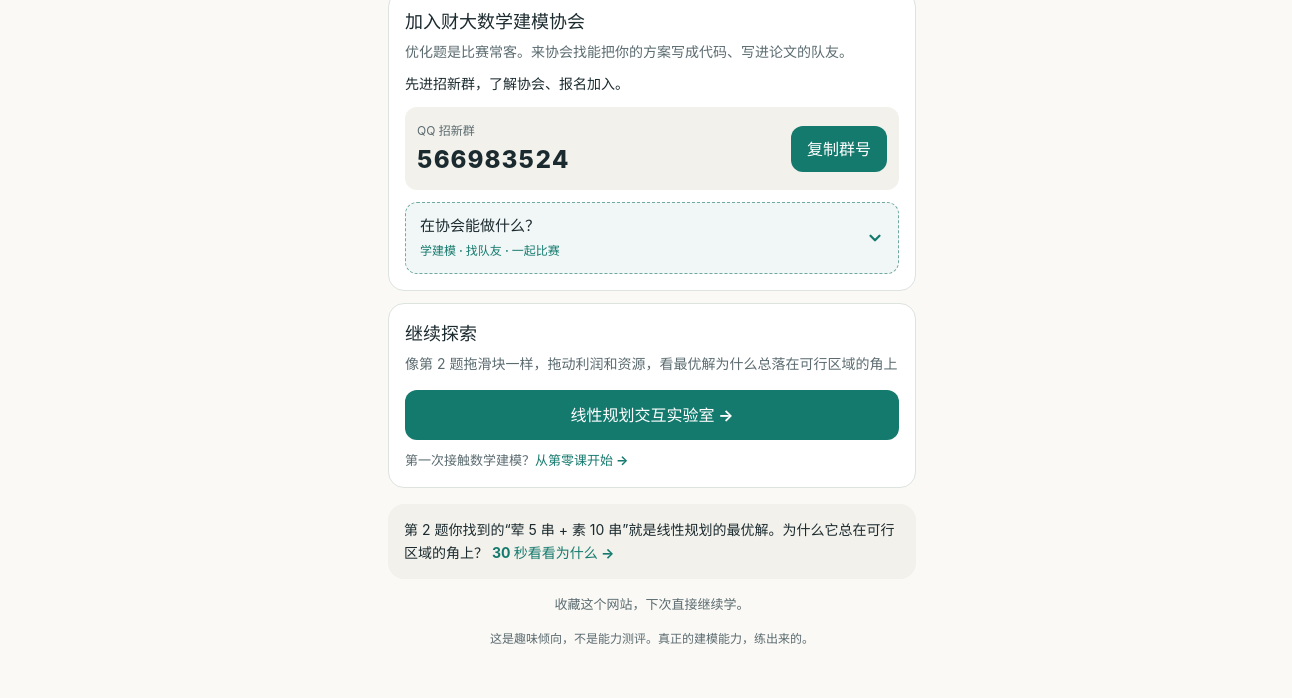
it: findable from everywhere › is offered on every game result as a quiet extra link, without replacing the recommendation
(page scrolled)
Expected: the element "从第零课开始 →" shows "线性规划交互实验室 →", [388,303,916,488]
Click the link "从第零课开始 →": (582, 460) [535,452,628,468]
(page scrolled)
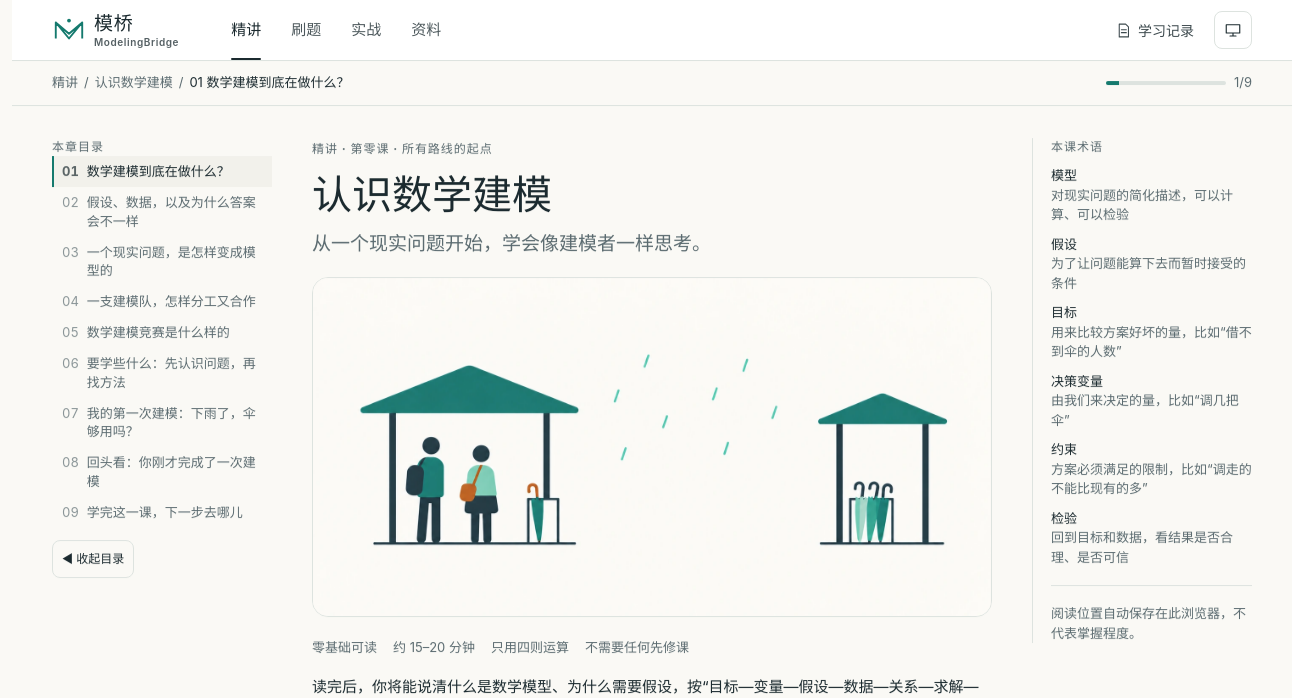
Result: the heading "认识数学建模" is shown at [312,170,552,219]
